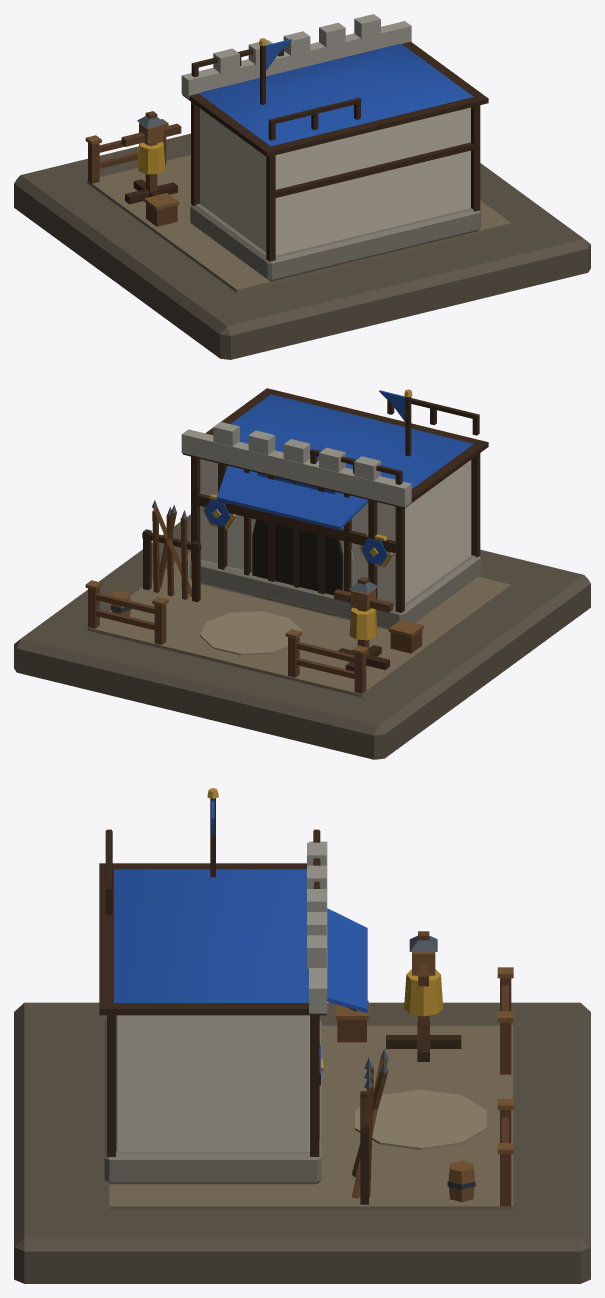
3 renders of one model, top to bottom at view 1: azimuth 30°, elevation 25°; view 2: azimuth 150°, elevation 25°; view 3: azimuth 270°, elevation 25°, orthographic. The views are drawn at different scales.
Visible parts, largest first — view 1: 兵营_1星; view 2: 兵营_1星; view 3: 兵营_1星.
Part boxes in pixels (bbox=[...]): 兵营_1星: bbox=[14, 14, 590, 359]; 兵营_1星: bbox=[14, 388, 590, 759]; 兵营_1星: bbox=[14, 788, 590, 1283].
Size of the model in its own units: 1 by 0.62 by 1.
